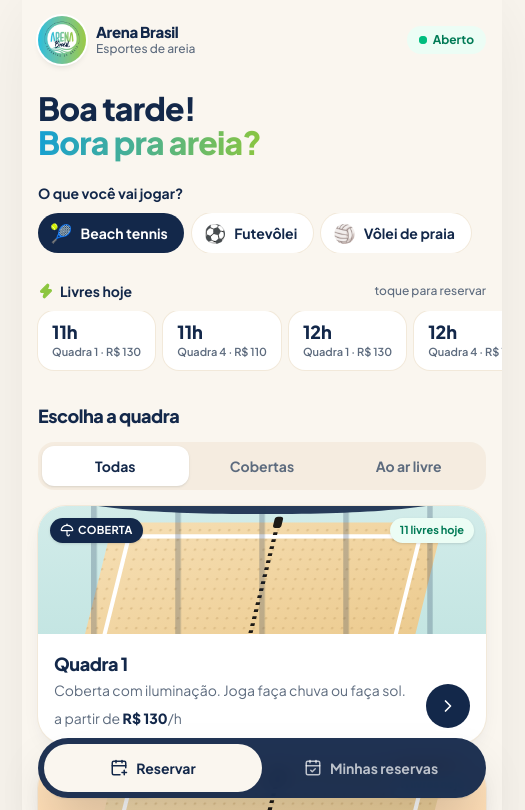
Test: reserva › mostra no campo o erro de validação devolvido pela API
Click the heading "Quadra 1": (91, 664) [54,652,128,675]
(page scrolled)
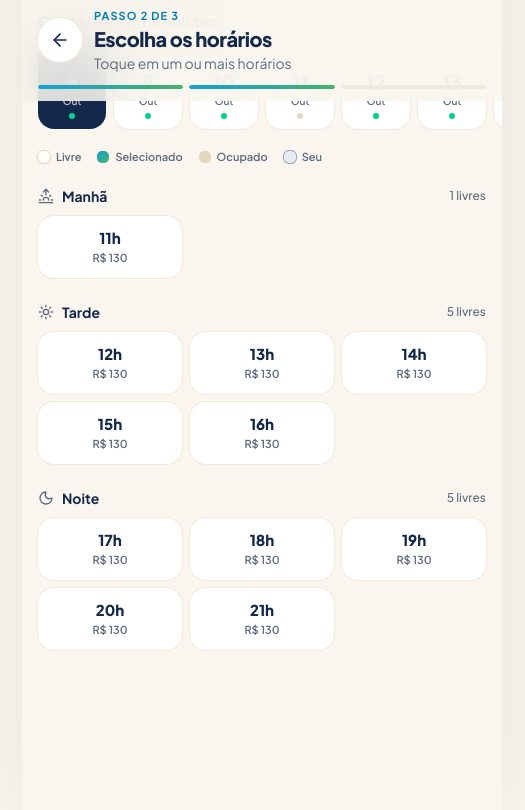
Result: the heading "Escolha os horários" is shown at [94,26,272,50]
Click the button "20h R$ 130": (110, 618) [38,588,182,650]
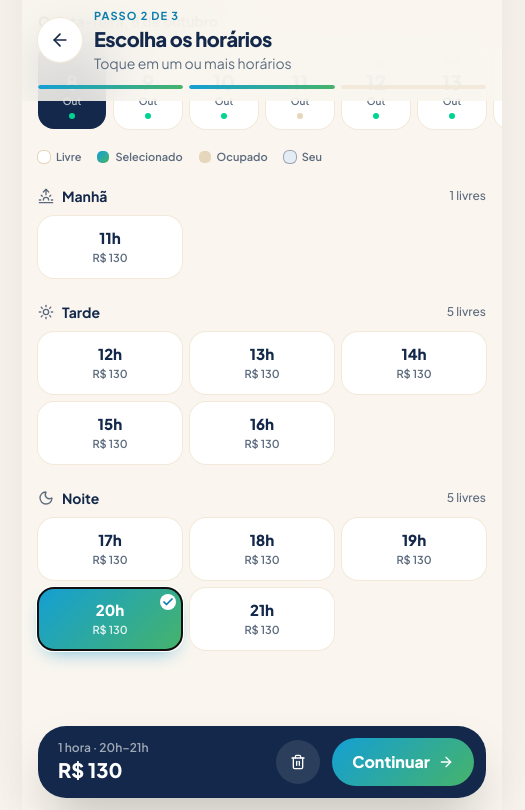
Click the button "Continuar": (403, 762) [332,738,474,786]
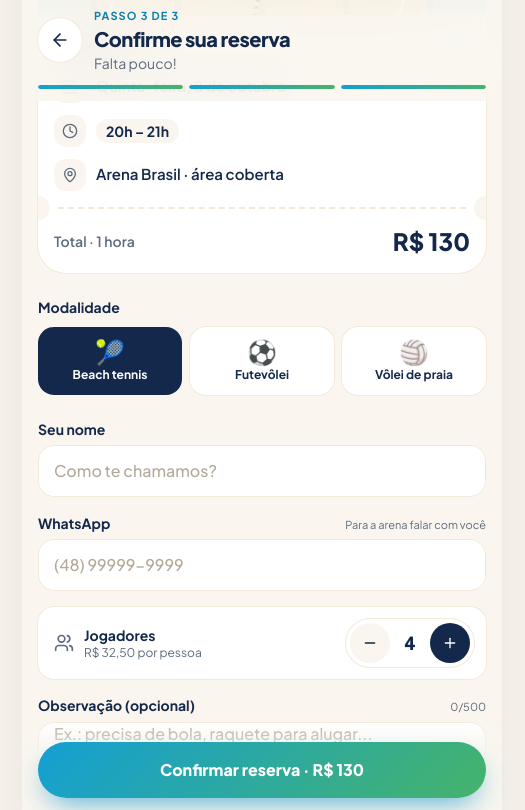
In the field with placeholder "Como te chamamos?": (262, 470) [38,444,486,496], type "Ana Souza"
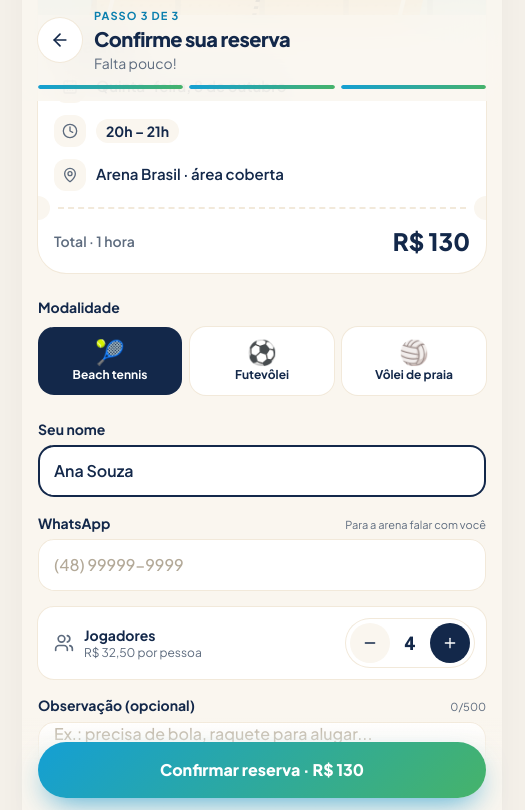
In the field with placeholder "(48) 99999-9999": (262, 565) [38,539,486,591], type "48999999999"
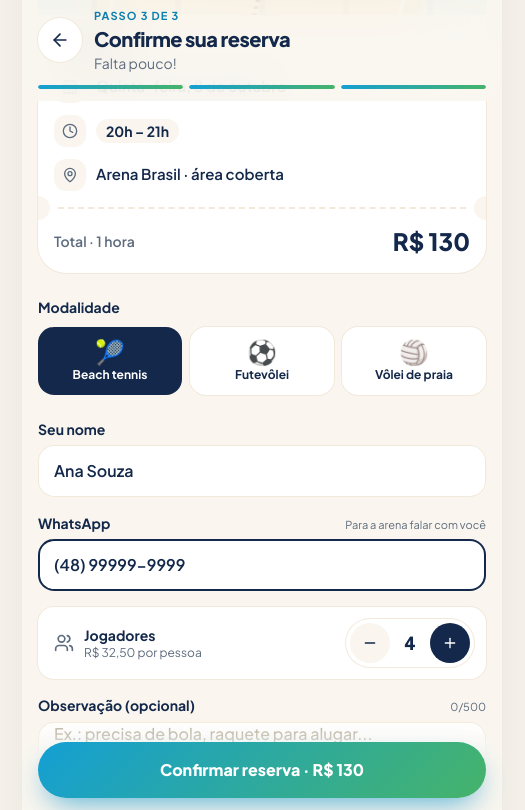
Click the button "Confirmar reserva · R$ 130": (262, 770) [38,742,486,798]
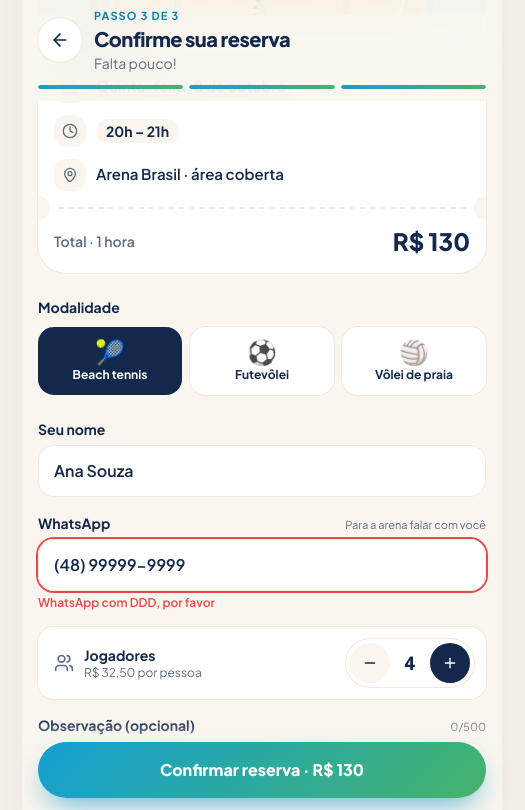
Result: the heading "Confirme sua reserva" is shown at [94,26,290,50]
Result: the text "WhatsApp com DDD, por favor" is shown at [38,595,215,610]
